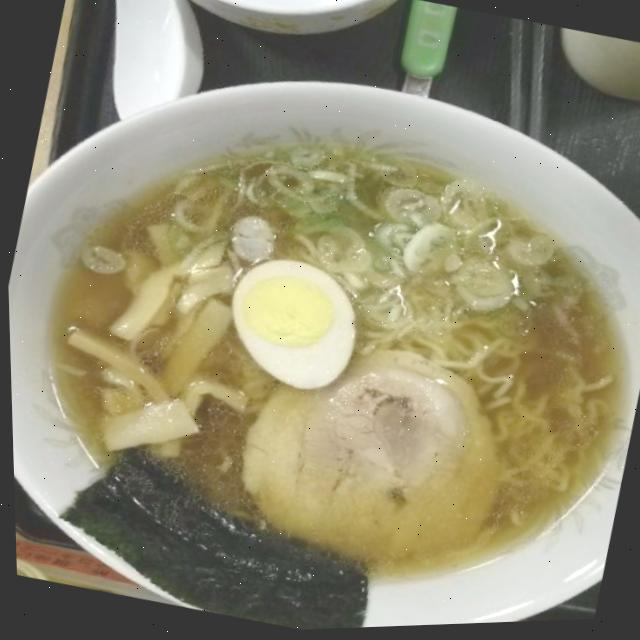面条主食: (1, 9, 640, 640)
